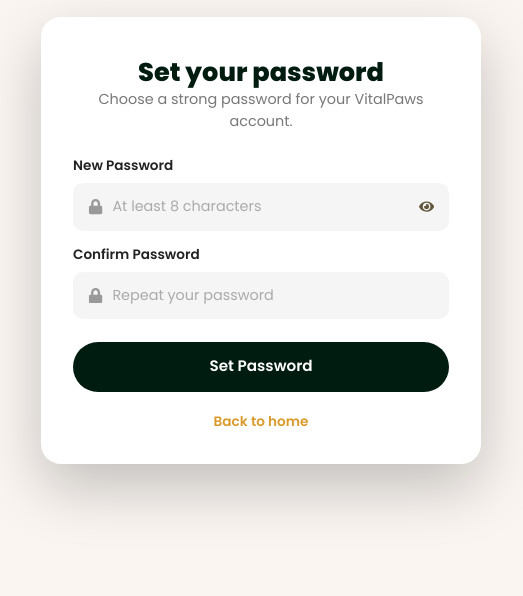
Test: ResetPassword — error handling › shows fallback message when response body has no message field
This screenshot has width=523, height=596.
Type "Password1*" into the password field with placeholder "At least 8 characters" at (262, 207), box [112,184,411,230]
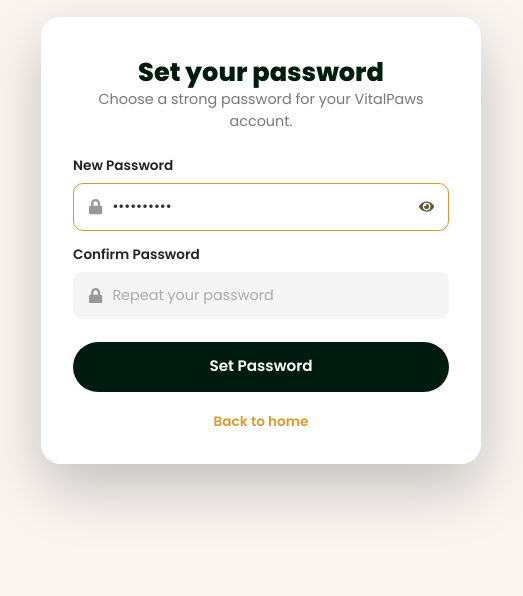
Type "Password1*" into the password field with placeholder "Repeat your password" at (273, 296), box [112,273,434,318]
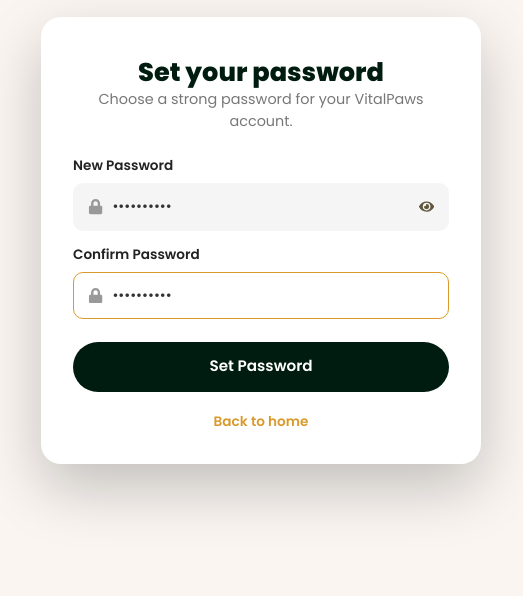
Click the button "Set Password" at (261, 367), box [73,342,449,392]
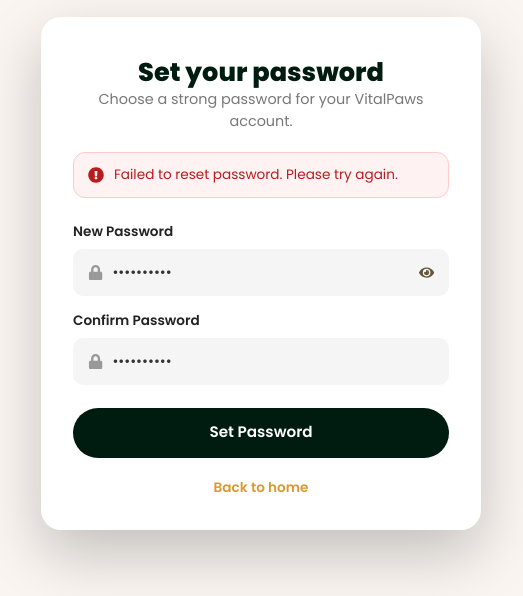
Expected: the text "Failed to reset password. Please try again." is shown, [114,165,398,185]
